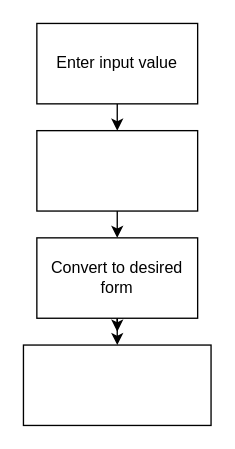
This 235x449 diagram has some shape labels left out. The shapes that lost their labels are listed below. From the top down, each one's centre as x and y in pixels, then its label:
At point (117, 170): "Enter present unit and unit to be changed".
At point (116, 384): "Submit desired value".
